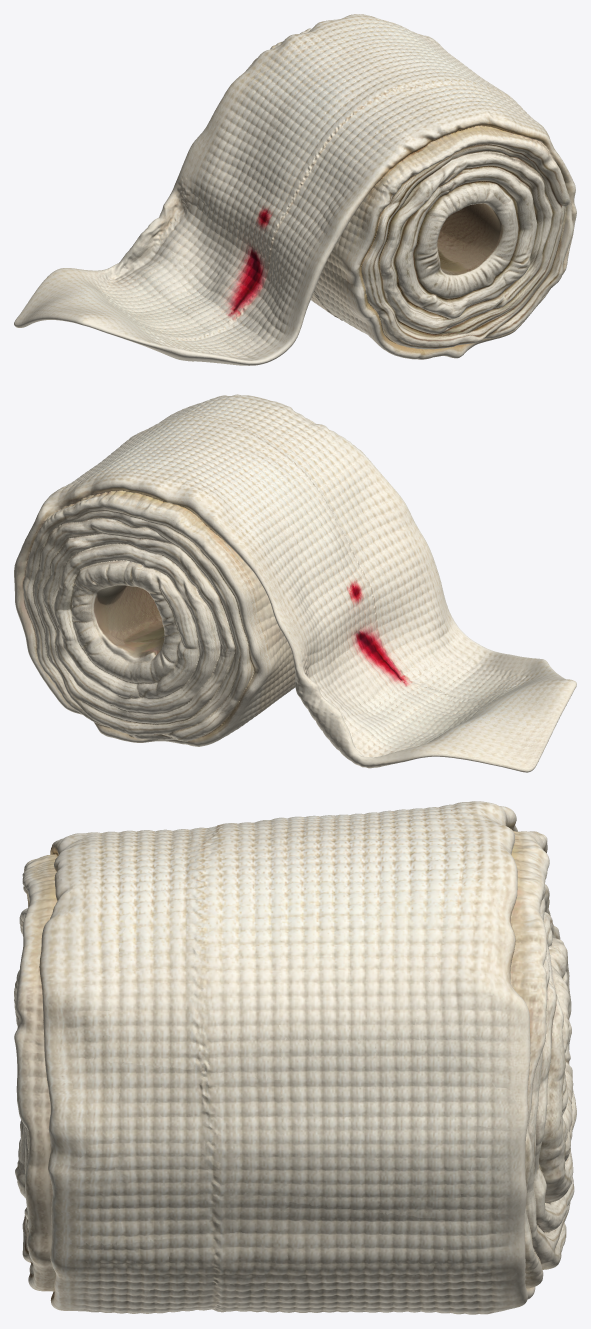
File: SingleGauzeRollWithLooseTail.glb
3 views of the same model, one above another, from view 1: azimuth 30°, elevation 25°; view 2: azimuth 150°, elevation 25°; view 3: azimuth 270°, elevation 25° (orthographic). The views are drawn at different scales.
Bounding box in the file's own units: 1.9 × 0.9673 × 1.11.
Materials: 1 (1 with a texture image).
